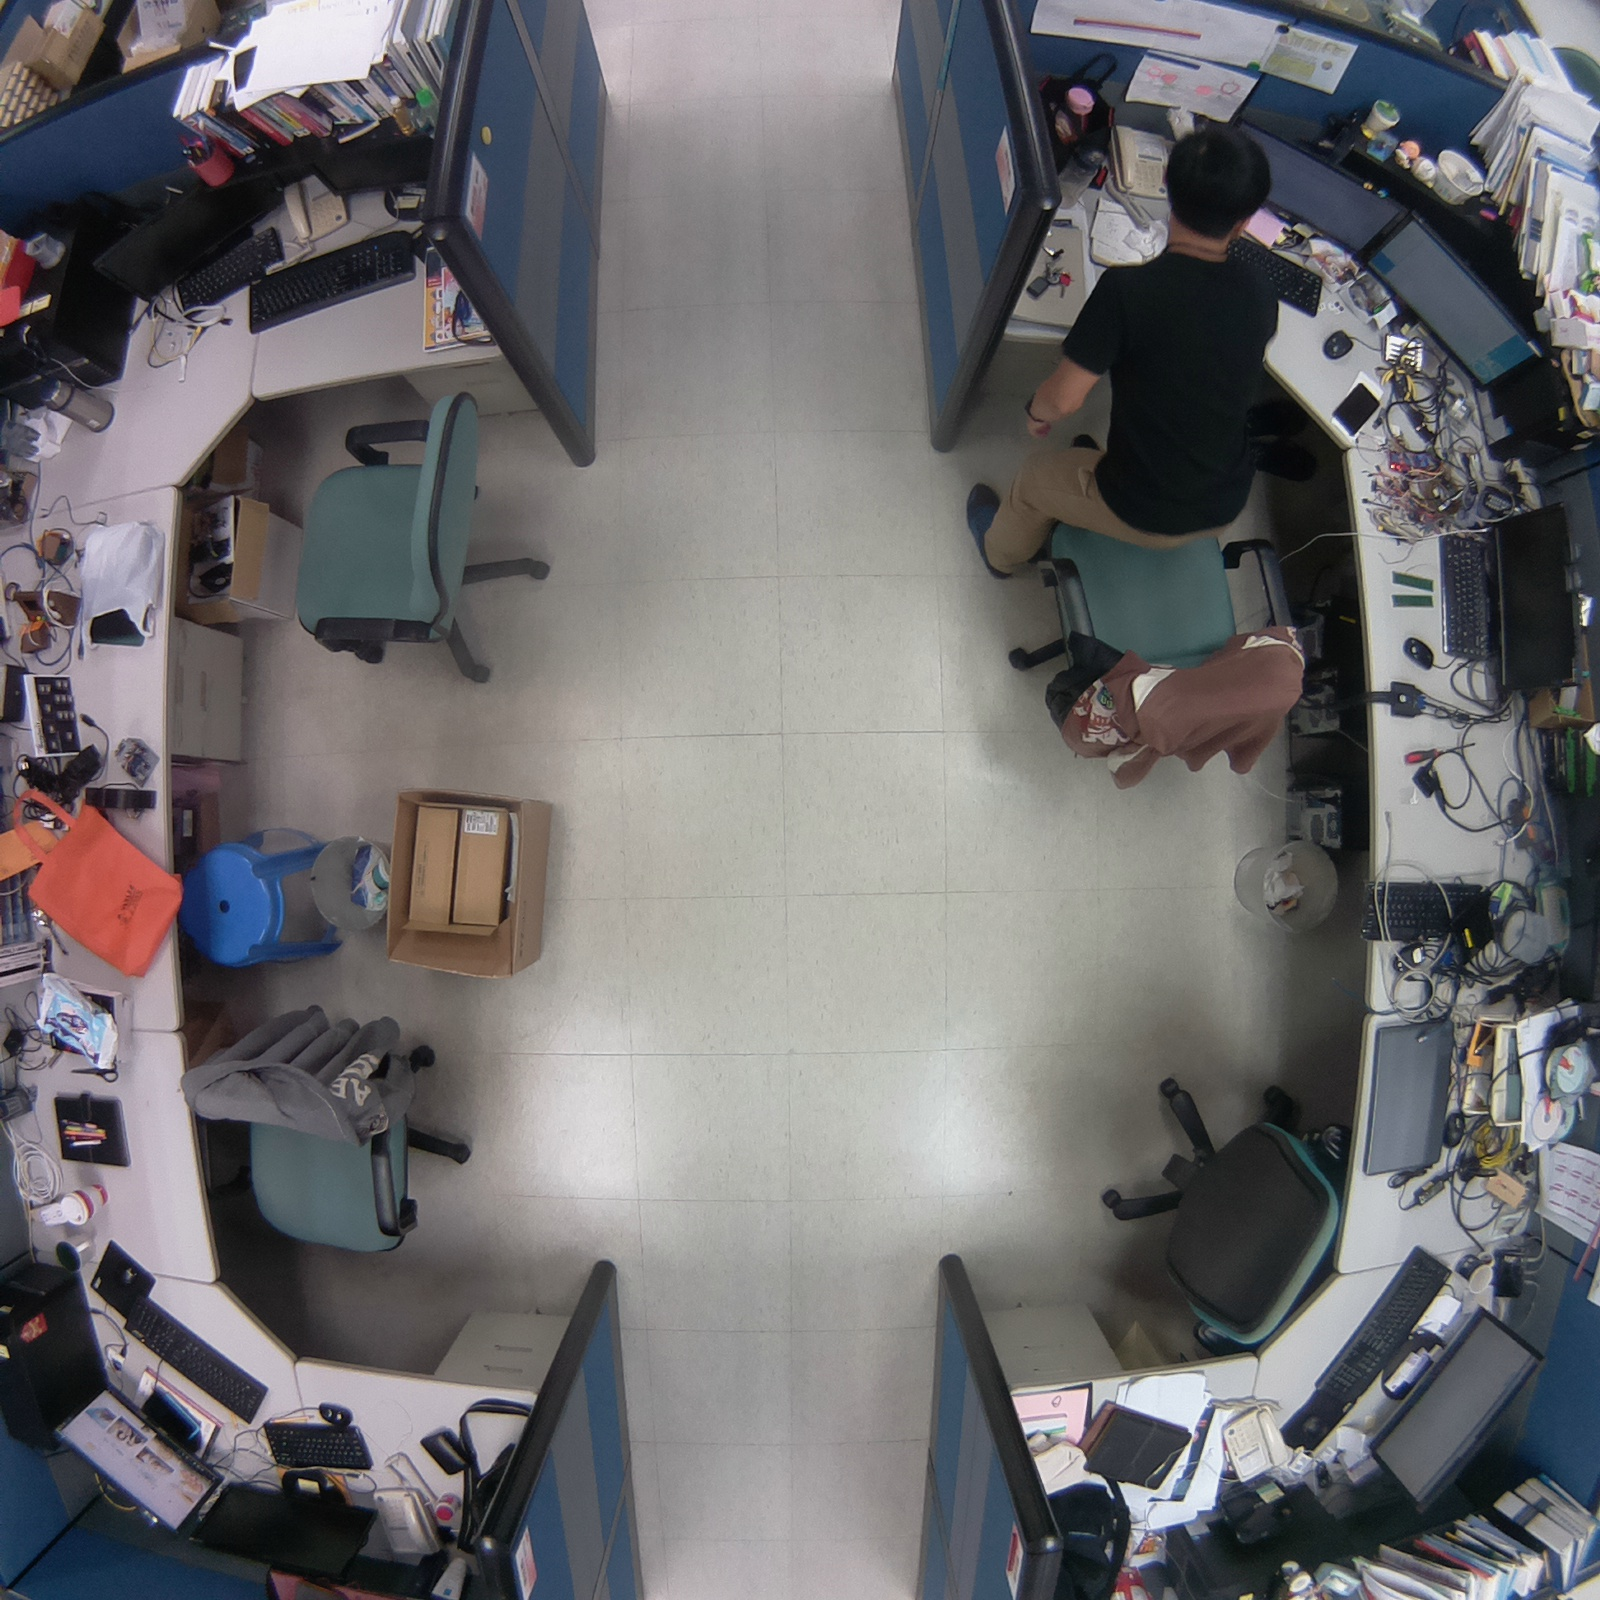head: (1156, 118, 1278, 243)
standing: (950, 121, 1310, 601)
